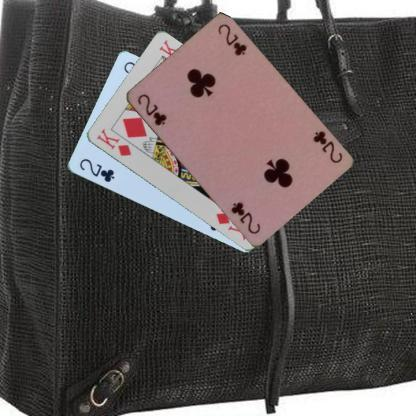2c: (310, 127, 344, 164), (134, 91, 167, 127), (76, 155, 116, 184)
Kd: (93, 126, 132, 158)
